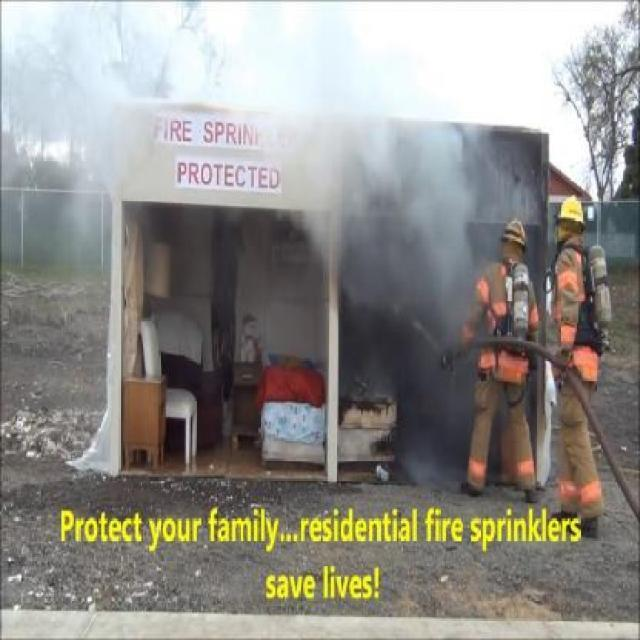smoke: (24, 21, 353, 272), (366, 82, 540, 480)
